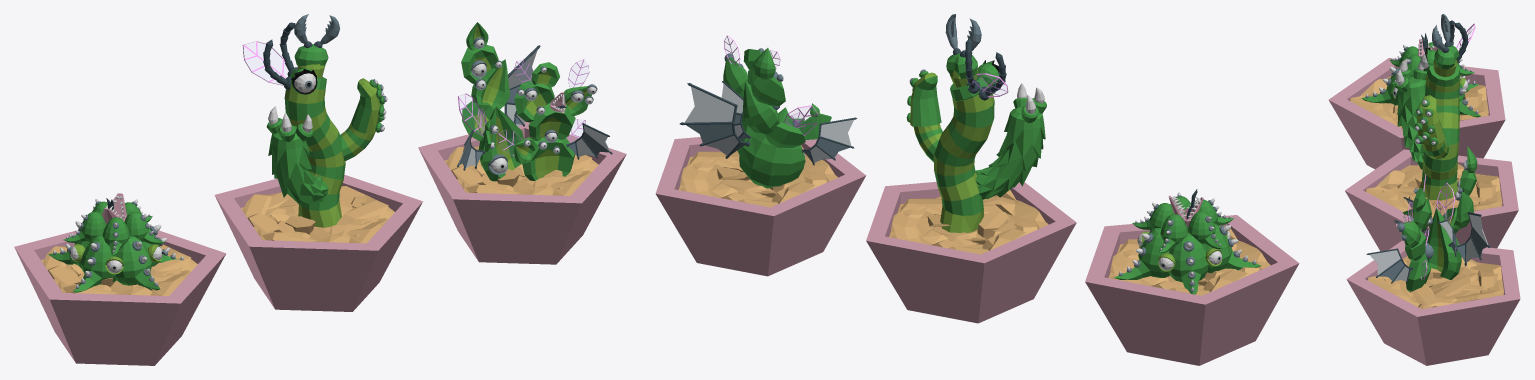
The picture shows the model from 3 angles, left to right: view 1: azimuth 30°, elevation 25°; view 2: azimuth 150°, elevation 25°; view 3: azimuth 270°, elevation 25°; orthographic projection. The views are drawn at different scales.
Visible parts, largest first — view 1: node_MeshObject1496759552-PolyPaper17, node_MeshObject2015479616-PolyPaper10, node_MeshObject-659966016-PolyPaper16, node_MeshObject-121507712-PolyPaper16, node_MeshObject-2134280896-PolyPaper16, node_MeshObject-1096840768-PolyPaper16, node_MeshObject2134812736-PolyPaper17, node_MeshObject-221184128-PolyPaper10, node_MeshObject722339008-PolyPaper16, node_MeshObject-1475235072-PolyGem25, node_MeshObject-2013971136-PolyPaper16; view 2: node_MeshObject1496759552-PolyPaper17, node_MeshObject2015479616-PolyPaper10, node_MeshObject-659966016-PolyPaper16, node_MeshObject-121507712-PolyPaper16, node_MeshObject-2134280896-PolyPaper16, node_MeshObject-2013971136-PolyPaper16, node_MeshObject-221184128-PolyPaper10, node_MeshObject2134812736-PolyPaper17, node_MeshObject722339008-PolyPaper16, node_MeshObject-1096840768-PolyPaper16, node_MeshObject-1475235072-PolyGem25; view 3: node_MeshObject1496759552-PolyPaper17, node_MeshObject2015479616-PolyPaper10, node_MeshObject-121507712-PolyPaper16, node_MeshObject-659966016-PolyPaper16, node_MeshObject-2134280896-PolyPaper16, node_MeshObject-1096840768-PolyPaper16, node_MeshObject2134812736-PolyPaper17, node_MeshObject-2013971136-PolyPaper16, node_MeshObject-1475235072-PolyGem25, node_MeshObject722339008-PolyPaper16, node_MeshObject-221184128-PolyPaper10.
Part boxes in pixels (<box>): node_MeshObject1496759552-PolyPaper17: <box>14,22,626,365</box>; node_MeshObject2015479616-PolyPaper10: <box>214,22,564,311</box>; node_MeshObject-659966016-PolyPaper16: <box>48,15,559,292</box>; node_MeshObject-121507712-PolyPaper16: <box>294,14,612,195</box>; node_MeshObject-2134280896-PolyPaper16: <box>268,37,597,205</box>; node_MeshObject-1096840768-PolyPaper16: <box>90,73,591,290</box>; node_MeshObject2134812736-PolyPaper17: <box>351,45,584,153</box>; node_MeshObject-221184128-PolyPaper10: <box>63,84,382,274</box>; node_MeshObject722339008-PolyPaper16: <box>75,199,164,255</box>; node_MeshObject-1475235072-PolyGem25: <box>242,41,589,155</box>; node_MeshObject-2013971136-PolyPaper16: <box>92,201,183,286</box>; node_MeshObject1496759552-PolyPaper17: <box>655,38,1299,365</box>; node_MeshObject2015479616-PolyPaper10: <box>721,48,1076,323</box>; node_MeshObject-659966016-PolyPaper16: <box>734,14,1261,294</box>; node_MeshObject-121507712-PolyPaper16: <box>679,18,981,207</box>; node_MeshObject-2134280896-PolyPaper16: <box>724,48,1045,199</box>; node_MeshObject-2013971136-PolyPaper16: <box>1114,210,1188,279</box>; node_MeshObject-221184128-PolyPaper10: <box>910,78,1230,271</box>; node_MeshObject2134812736-PolyPaper17: <box>687,63,941,146</box>; node_MeshObject722339008-PolyPaper16: <box>1132,192,1233,238</box>; node_MeshObject-1096840768-PolyPaper16: <box>723,57,1230,235</box>; node_MeshObject-1475235072-PolyGem25: <box>724,35,1008,135</box>; node_MeshObject1496759552-PolyPaper17: <box>1328,22,1520,365</box>; node_MeshObject2015479616-PolyPaper10: <box>1345,20,1518,279</box>; node_MeshObject-121507712-PolyPaper16: <box>1366,14,1503,309</box>; node_MeshObject-659966016-PolyPaper16: <box>1365,25,1502,249</box>; node_MeshObject-2134280896-PolyPaper16: <box>1394,59,1467,260</box>; node_MeshObject-1096840768-PolyPaper16: <box>1361,53,1466,266</box>; node_MeshObject2134812736-PolyPaper17: <box>1403,95,1481,247</box>; node_MeshObject-2013971136-PolyPaper16: <box>1365,59,1480,117</box>; node_MeshObject-1475235072-PolyGem25: <box>1407,23,1475,279</box>; node_MeshObject722339008-PolyPaper16: <box>1389,44,1420,84</box>; node_MeshObject-221184128-PolyPaper10: <box>1390,33,1468,143</box>.
Bounding box in the file's own units: 5.23 × 2.34 × 1.7.
